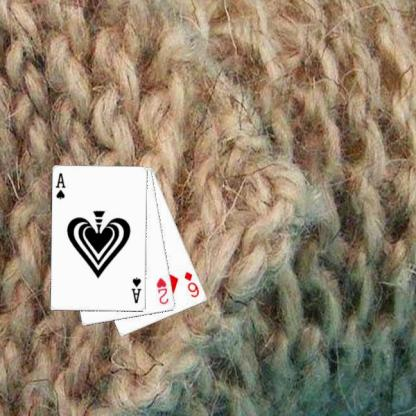2H: (154, 274, 170, 306)
6D: (182, 269, 201, 299)
AS: (128, 275, 144, 305), (52, 170, 66, 201)
